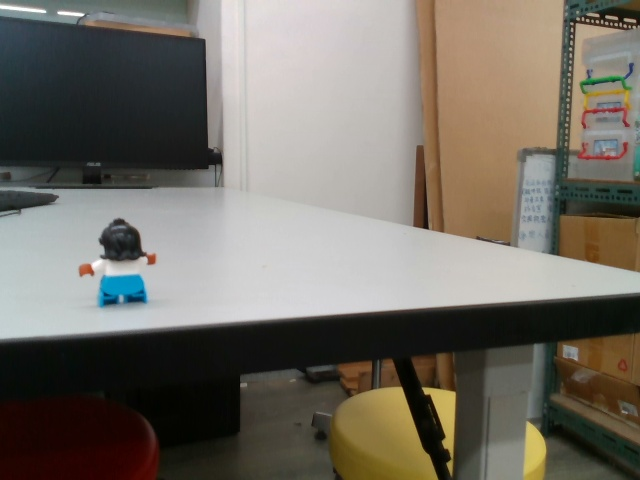people: (76, 216, 159, 307)
